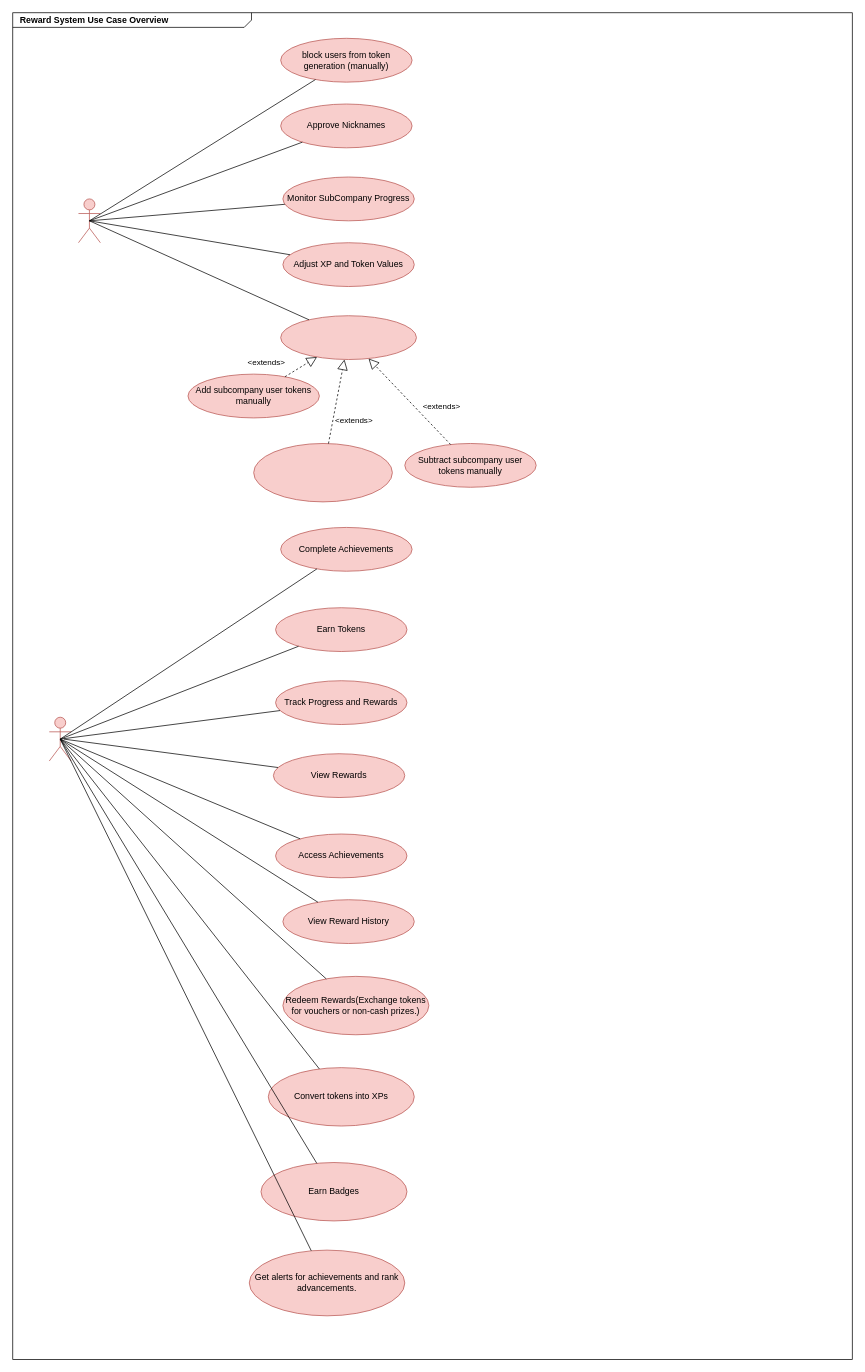
The diagram is 865 pixels wide and 1372 high, and some of its shapes have lost their labels. Each missing label, with the centre of its shape:
Add XP for the subcompany user manually: pixel 322 472
administrator: pixel 89 220
assign tokens: pixel 348 337
subcontractor: pixel 60 738
